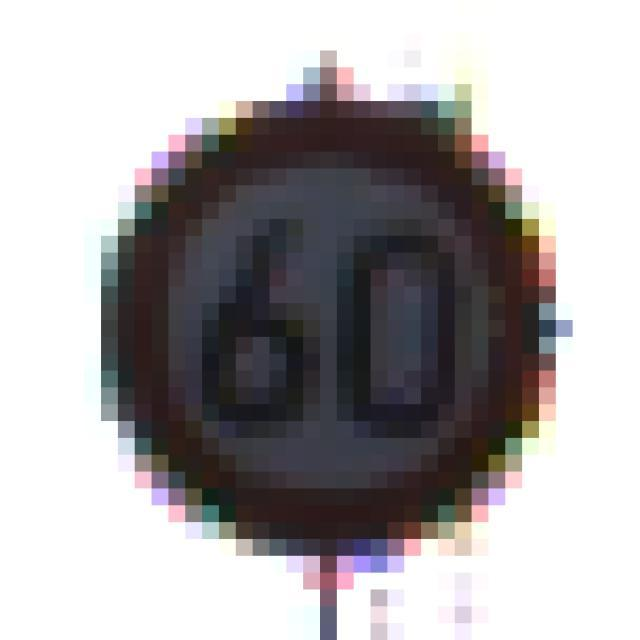Ograniczenie predkosci do 60: (108, 110, 540, 538)
